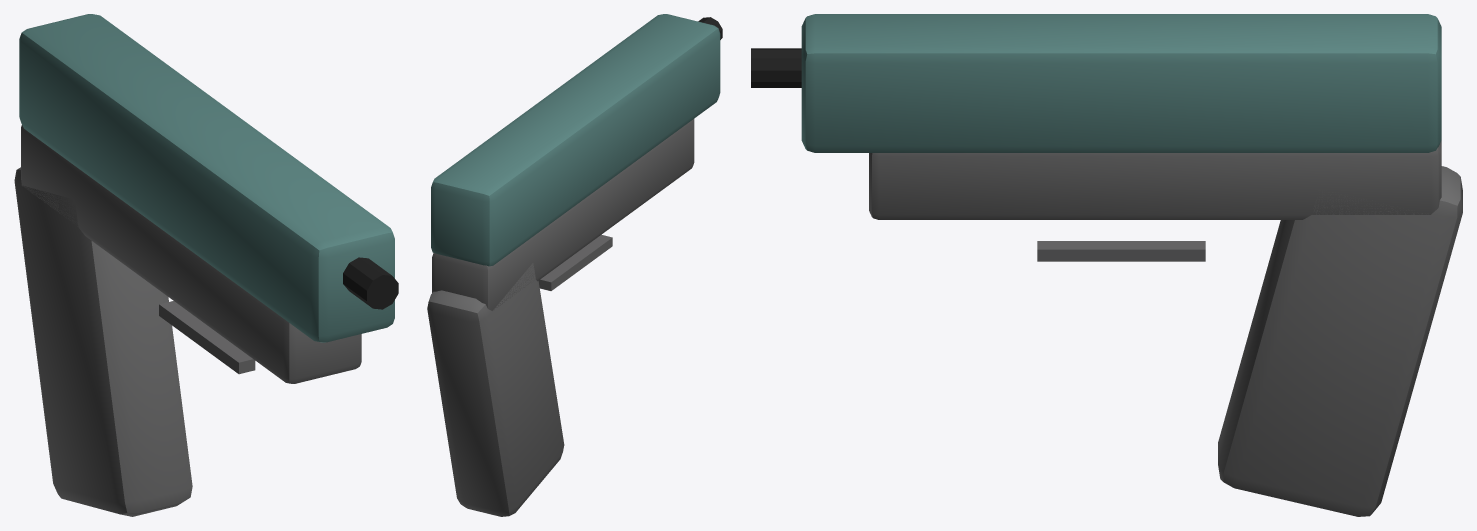
The model's file is pistol.glb.
The picture shows the model from 3 angles, left to right: view 1: azimuth 30°, elevation 25°; view 2: azimuth 150°, elevation 25°; view 3: azimuth 270°, elevation 25°; orthographic projection. The views are drawn at different scales.
Visible parts, largest first — view 1: pistol; view 2: pistol; view 3: pistol.
Boxes of the visible parts, box(x1,y1,x2,y2) form: pistol: box(14, 14, 398, 516); pistol: box(427, 14, 722, 516); pistol: box(751, 14, 1462, 516).
Bounding box in the file's own units: 0.03 × 0.1555 × 0.2113.
